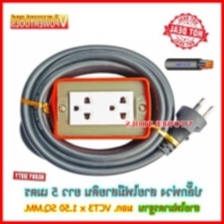three_eye_plug: (52, 77, 152, 140)
